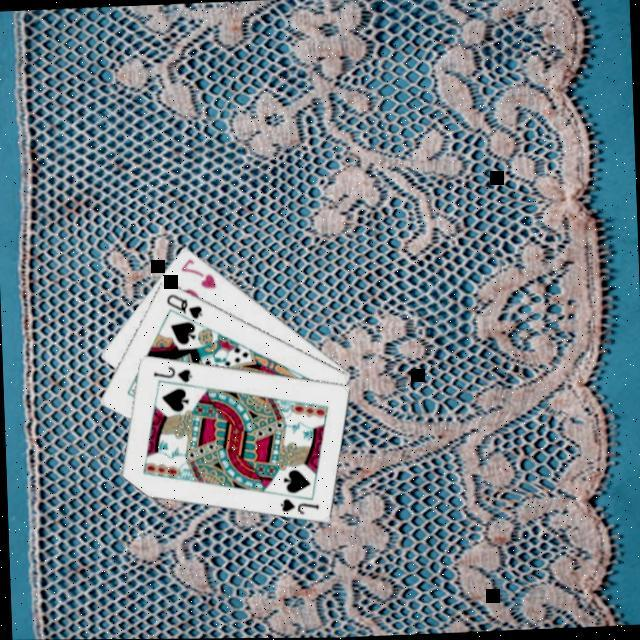7H: (174, 254, 217, 291)
JS: (274, 493, 320, 518), (147, 362, 193, 386)
QS: (160, 288, 203, 322)
